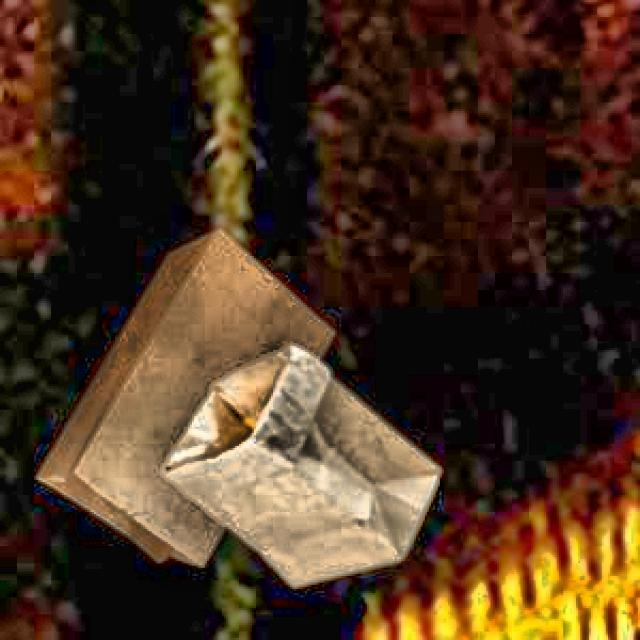Paper-bag: (35, 226, 339, 573), (165, 340, 446, 598)
